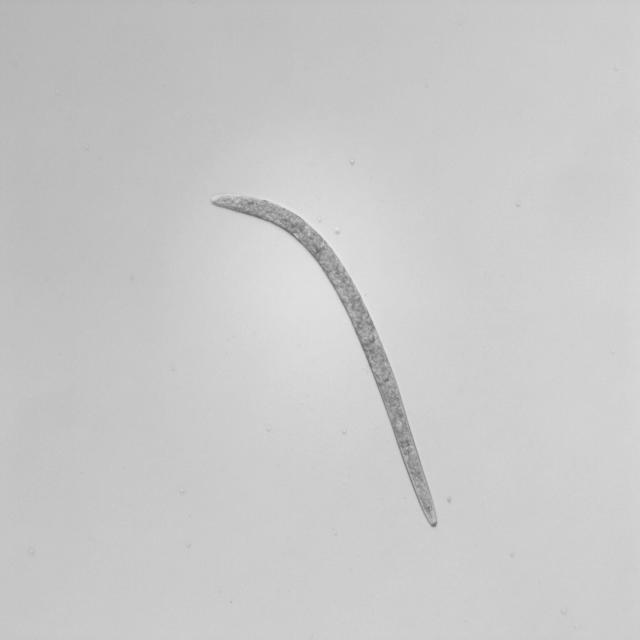Pratylenchus: (200, 191, 441, 531)
